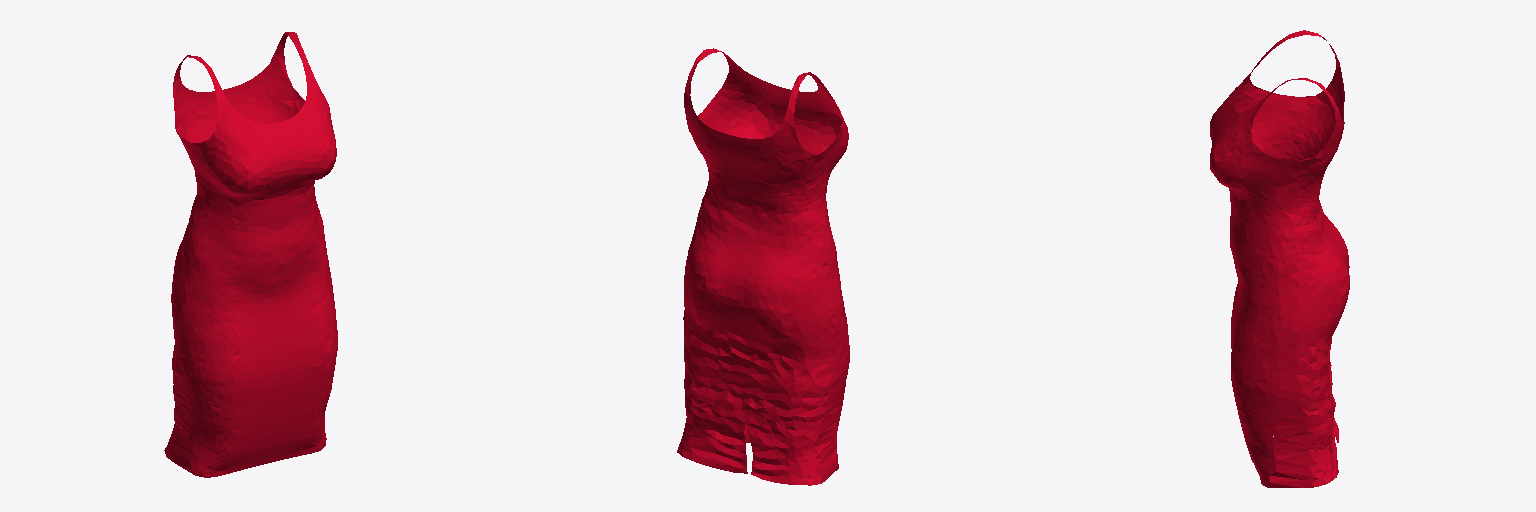
3 renders of one model, left to right at view 1: azimuth 30°, elevation 25°; view 2: azimuth 150°, elevation 25°; view 3: azimuth 270°, elevation 25°, orthographic.
Visible parts, largest first — view 1: medium_redBodycon_noinside:polySurface2 medium_redBodycon_noinsi; view 2: medium_redBodycon_noinside:polySurface2 medium_redBodycon_noinsi; view 3: medium_redBodycon_noinside:polySurface2 medium_redBodycon_noinsi.
Part boxes in pixels (x1,y1,x2,y2): medium_redBodycon_noinside:polySurface2 medium_redBodycon_noinsi: (164,32,337,477); medium_redBodycon_noinside:polySurface2 medium_redBodycon_noinsi: (677,48,849,485); medium_redBodycon_noinside:polySurface2 medium_redBodycon_noinsi: (1210,30,1349,487).
Size of the model in its own units: 3.7 by 9.55 by 3.02.
Materials: 2 (1 with a texture image).